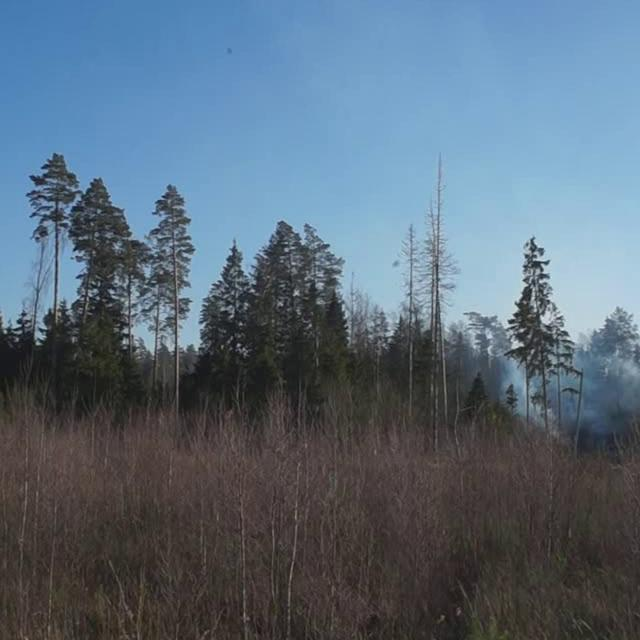Smoke: (484, 300, 639, 452)
